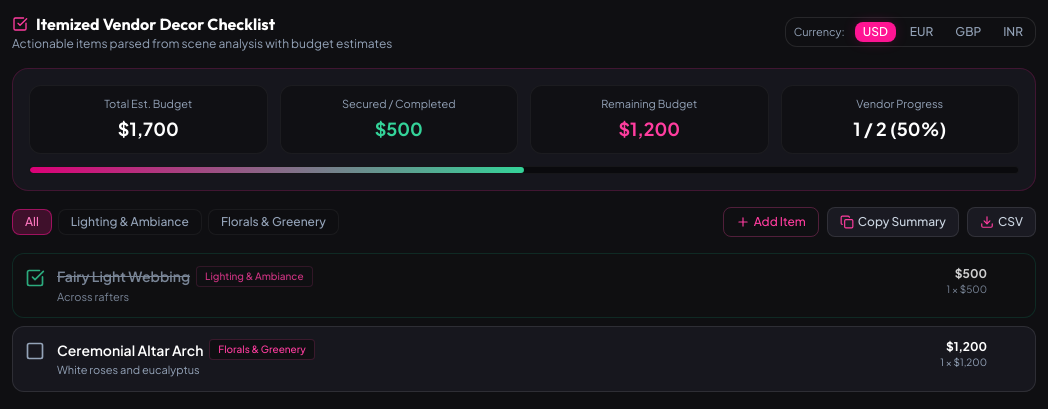
Test: DecorChecklist Component › filters items by category pill
Click the button "Florals & Greenery". click: [273, 222]
box: x1=208 y1=208 x2=339 y2=234
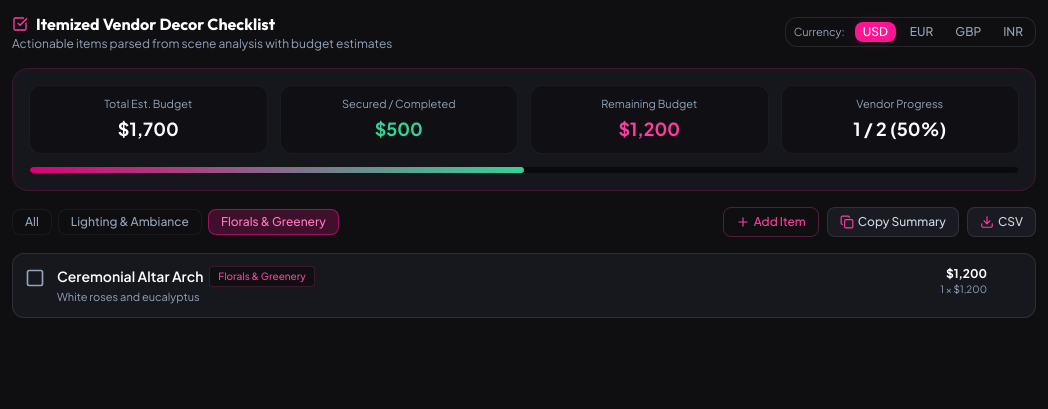
expect the text "Ceremonial Altar Arch" is shown: met, box x1=57 y1=267 x2=203 y2=285
expect the text "Fairy Light Webbing" is gone: met
